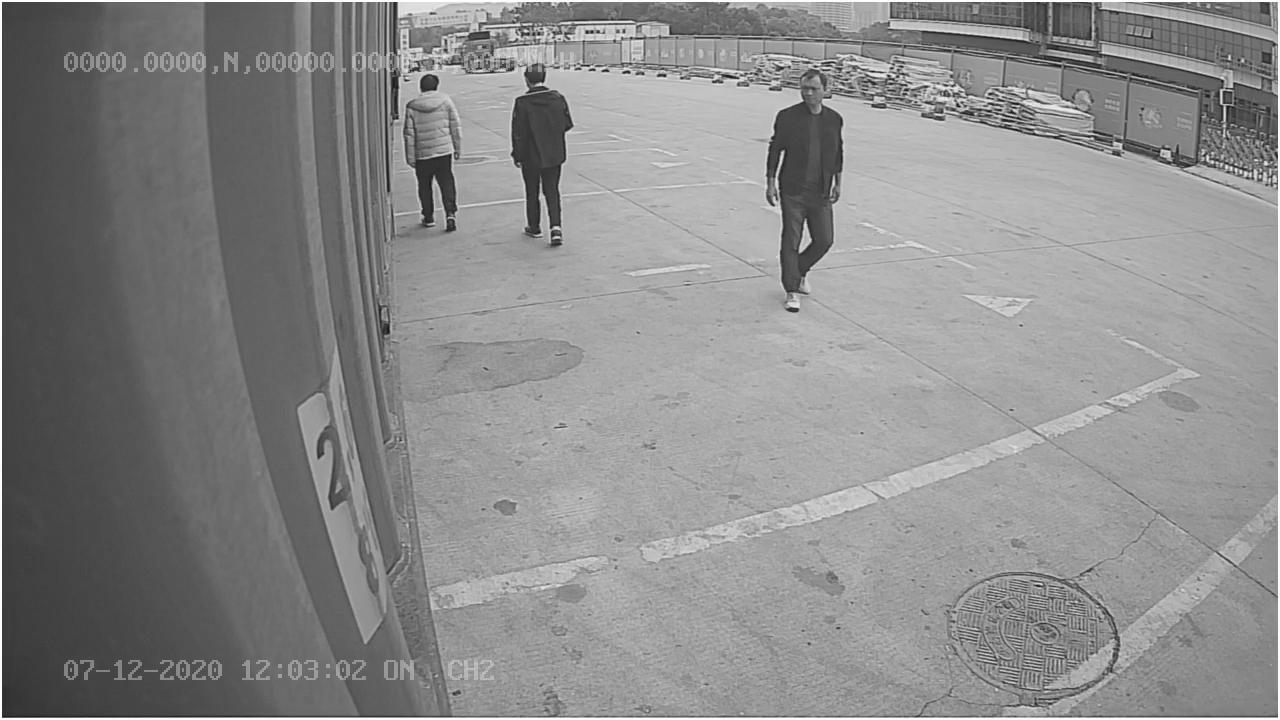person: (766, 67, 847, 315)
